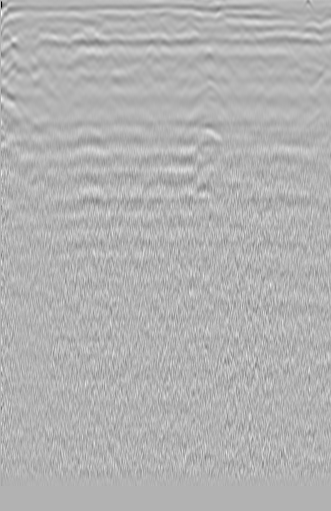가스: (190, 174, 219, 203)
상수: (273, 29, 297, 52)
오수: (0, 32, 27, 66)
우수: (139, 31, 167, 67)
